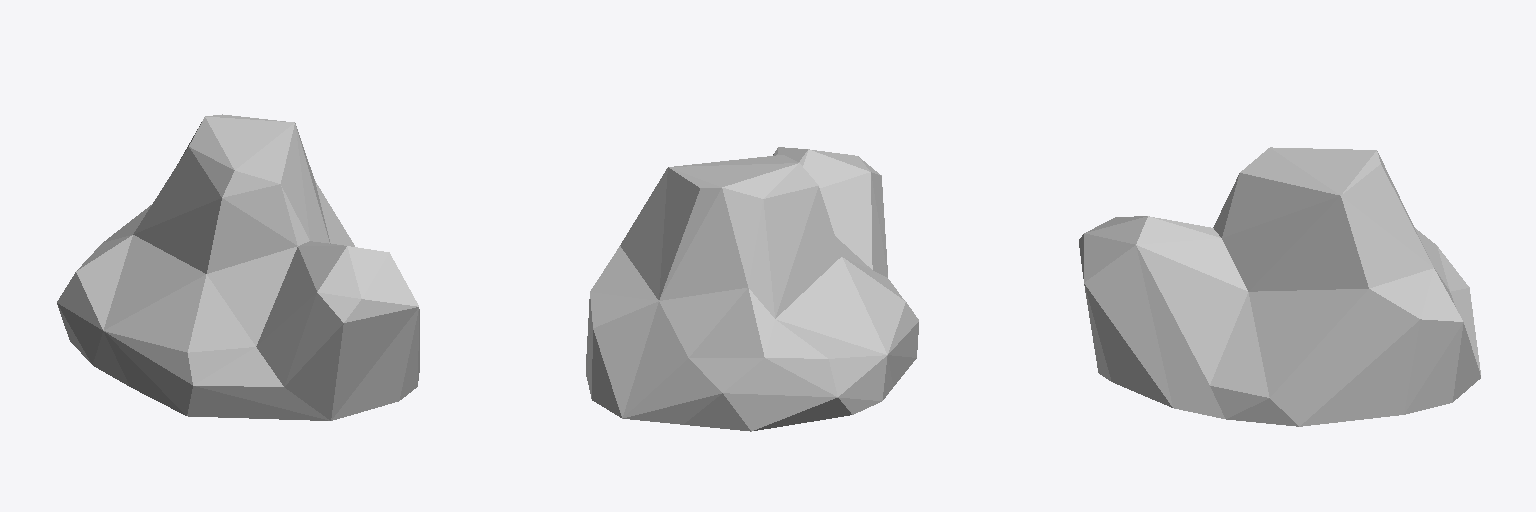
File: stone62.obj
3 views of the same model, side by side, from view 1: azimuth 30°, elevation 25°; view 2: azimuth 150°, elevation 25°; view 3: azimuth 270°, elevation 25° (orthographic).
Visible parts, largest first — view 1: stone6_Group1.005; view 2: stone6_Group1.005; view 3: stone6_Group1.005.
Boxes of the visible parts, x1=… form: stone6_Group1.005: x1=57, y1=114, x2=419, y2=420; stone6_Group1.005: x1=586, y1=147, x2=918, y2=431; stone6_Group1.005: x1=1079, y1=147, x2=1480, y2=426.
Size of the model in its own units: 2.04 by 1.47 by 2.56.